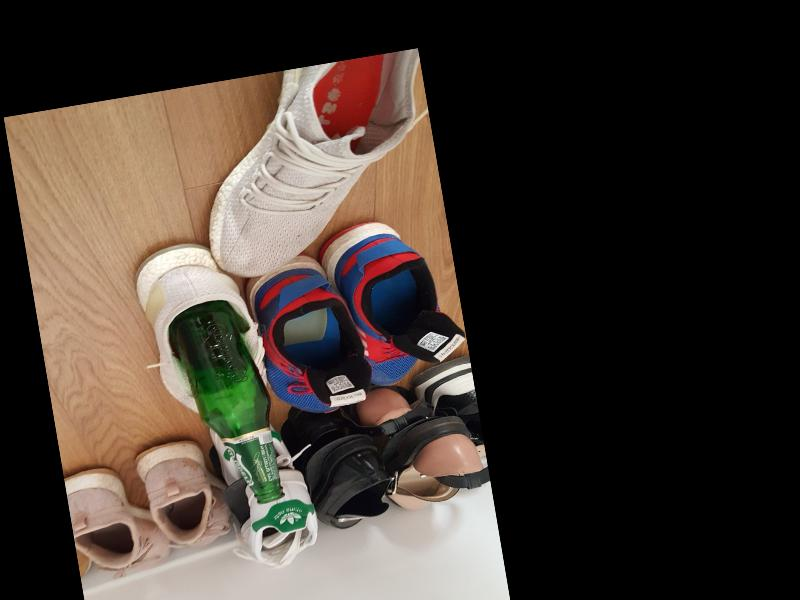Beer: (166, 294, 287, 511)
